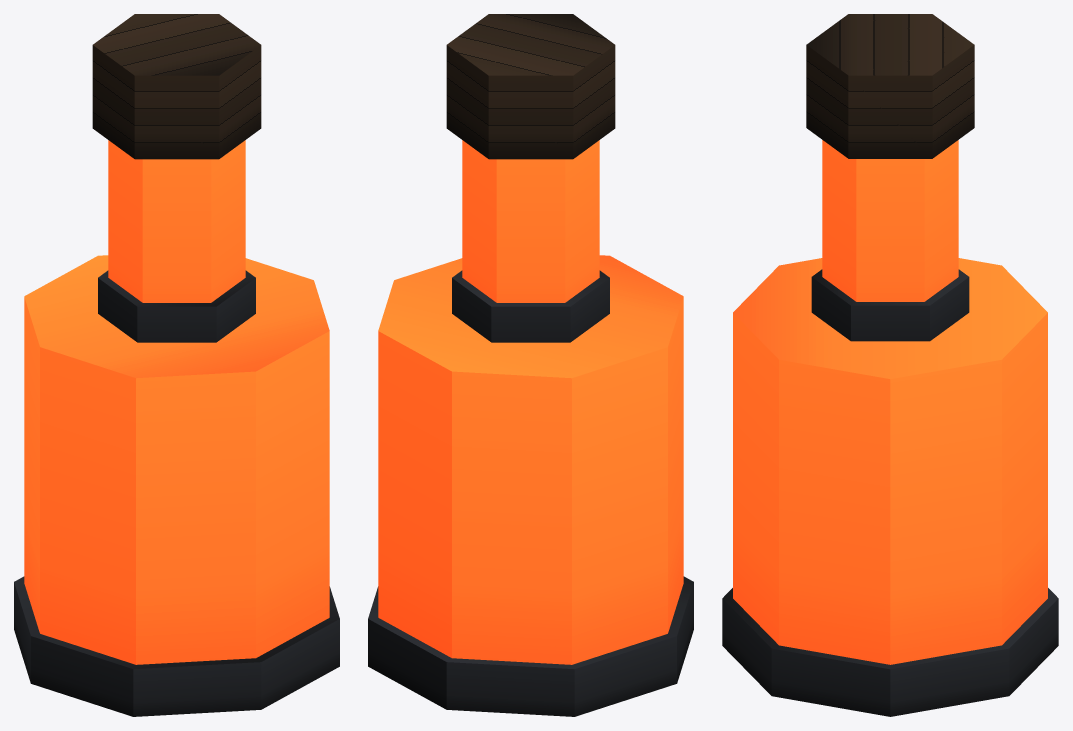
File: potion_red.gltf
3 renders of one model, left to right at view 1: azimuth 30°, elevation 25°; view 2: azimuth 150°, elevation 25°; view 3: azimuth 270°, elevation 25°, orthographic.
Parts seen in each view (by area): view 1: potion_red; view 2: potion_red; view 3: potion_red.
Boxes of the visible parts, x1,y1,x2,y2 form: potion_red: (14, 14, 339, 716); potion_red: (368, 14, 693, 716); potion_red: (722, 14, 1058, 716).
Size of the model in its own units: 0.128 by 0.2525 by 0.128.
Materials: 1 (1 with a texture image).
